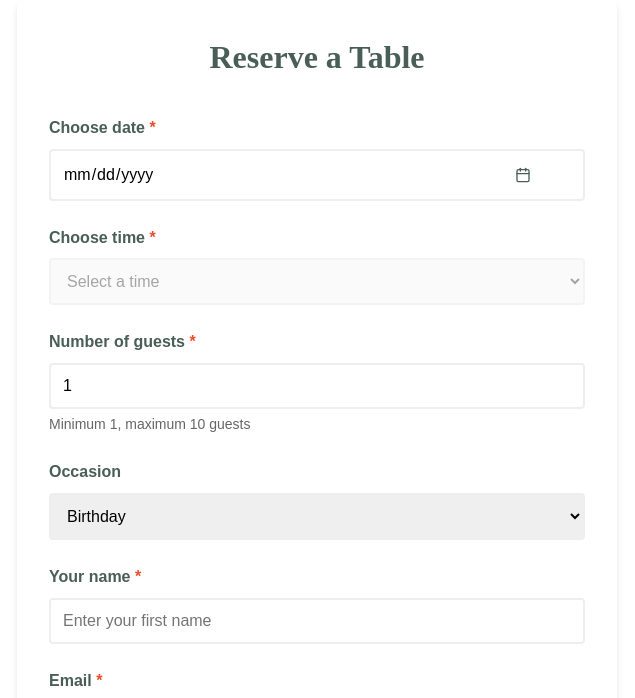
BookingForm › validates number of guests
Test minimum
Replace the text in the number field labelled "Number of guests *" with "0". click: (317, 386)
box: [49,363,585,409]
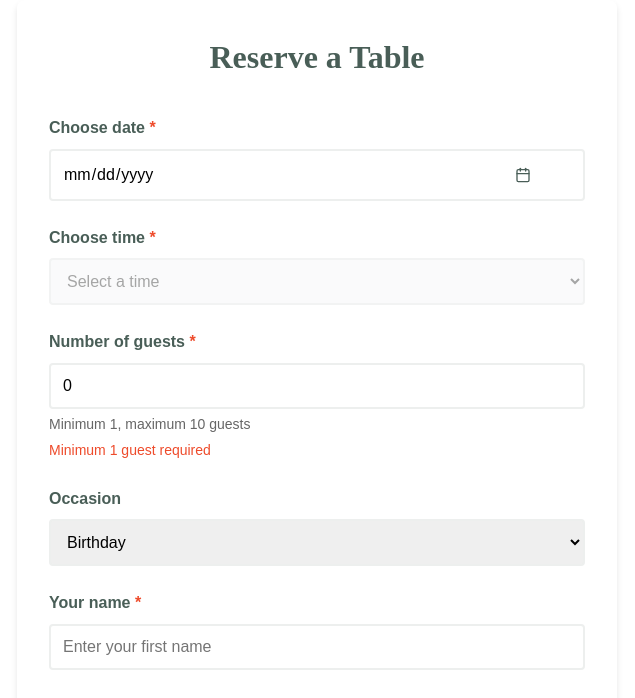
Result: the text "Minimum 1 guest required" is shown at [49,442,211,458]
Test maximum
Replace the text in the number field labelled "Number of guests *" with "11". click: (317, 386)
box: [49,363,585,409]
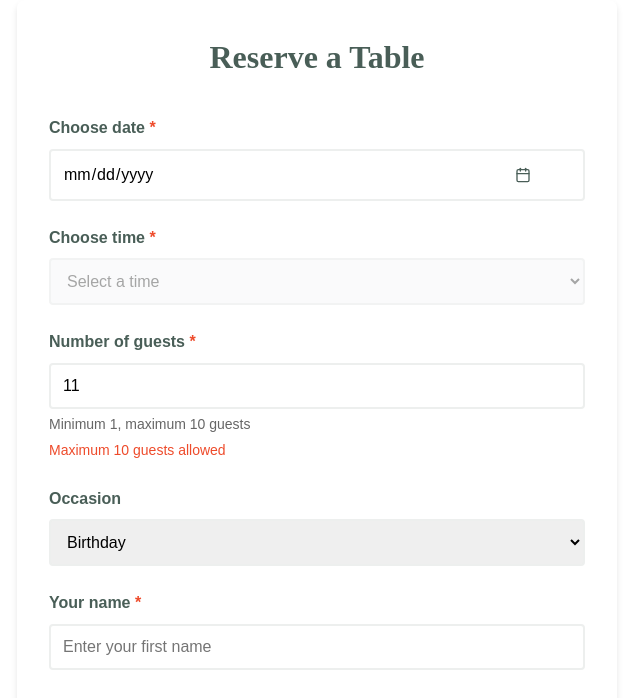
Result: the text "Maximum 10 guests allowed" is shown at [49,442,226,458]
